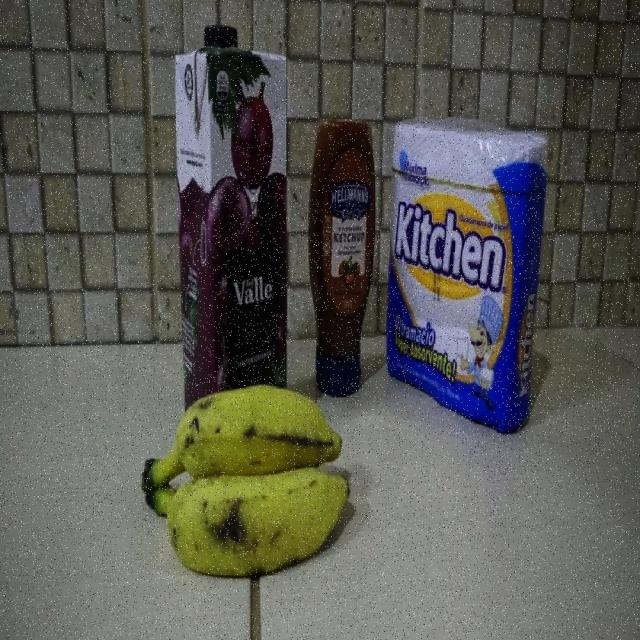Banana: (140, 380, 347, 584)
Ketchup: (308, 116, 376, 372)
Napkin: (387, 116, 545, 420)
